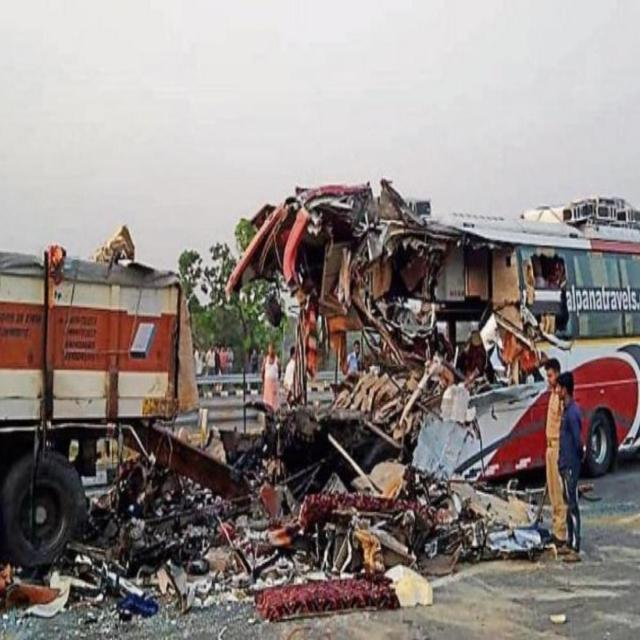accident: (229, 180, 640, 480)
truck: (0, 249, 198, 569)
